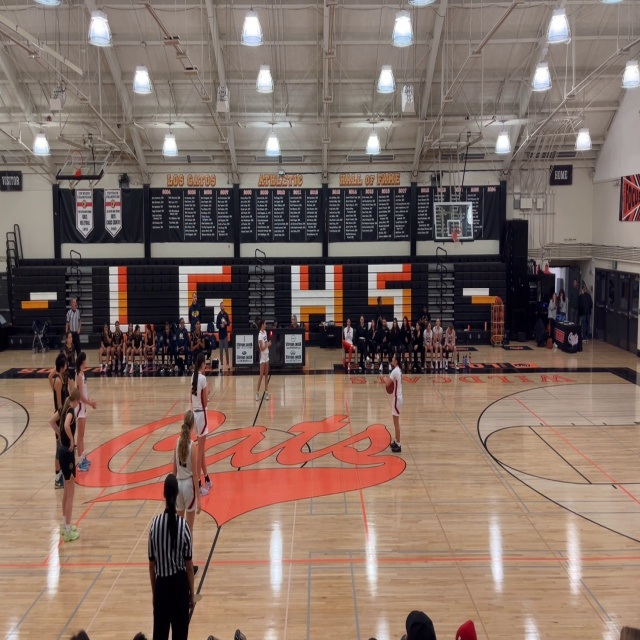Basketball: (385, 379, 395, 394)
